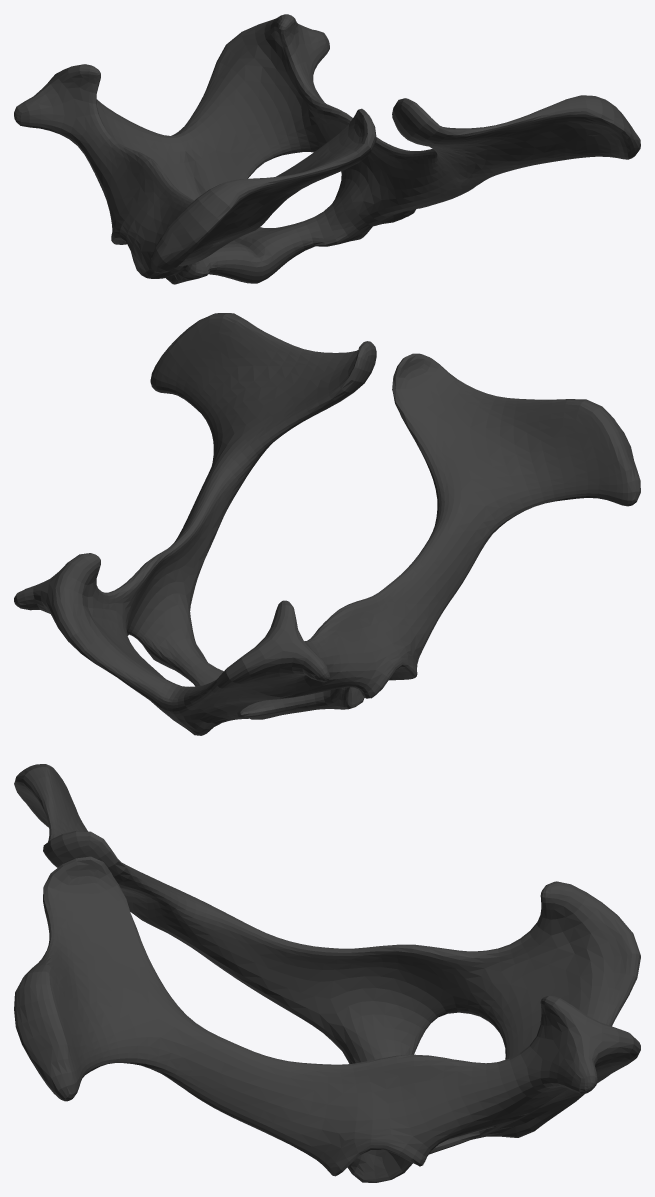
File: b_pelvis_LO.glb
3 renders of one model, top to bottom at view 1: azimuth 30°, elevation 25°; view 2: azimuth 150°, elevation 25°; view 3: azimuth 270°, elevation 25°, orthographic. The views are drawn at different scales.
Visible parts, largest first — view 1: b_pelvis_LO; view 2: b_pelvis_LO; view 3: b_pelvis_LO.
Part boxes in pixels (x1,y1,x2,y2): b_pelvis_LO: (14, 14, 640, 284); b_pelvis_LO: (14, 313, 640, 735); b_pelvis_LO: (14, 764, 640, 1182).
Bounding box in the file's own units: 0.00523 × 0.00281 × 0.00498.
Materials: 1 (1 with a texture image).
